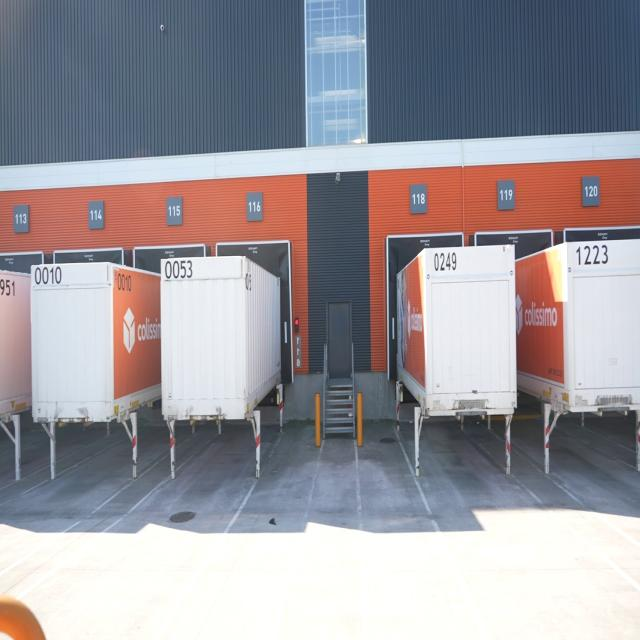Code: (161, 256, 196, 284), (32, 262, 64, 287), (114, 269, 135, 294)
